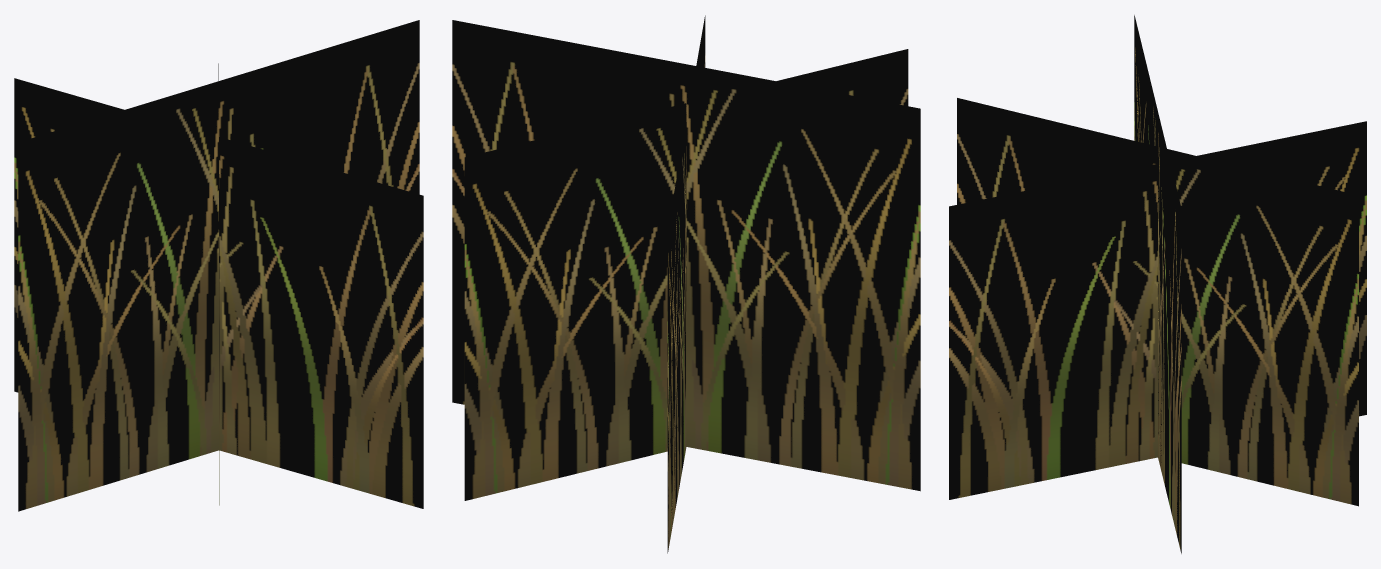
The model's file is grass_clump_1.glb.
The picture shows the model from 3 angles, left to right: view 1: azimuth 30°, elevation 25°; view 2: azimuth 150°, elevation 25°; view 3: azimuth 270°, elevation 25°; orthographic projection. The views are drawn at different scales.
Parts seen in each view (by area): view 1: grass_clump_1; view 2: grass_clump_1; view 3: grass_clump_1.
Boxes of the visible parts, x1=… form: grass_clump_1: x1=14, y1=20, x2=423, y2=511; grass_clump_1: x1=452, y1=15, x2=920, y2=553; grass_clump_1: x1=949, y1=15, x2=1366, y2=553.
Bounding box in the file's own units: 0.5969 × 0.4938 × 0.5403.
1 material, 1 textured.
